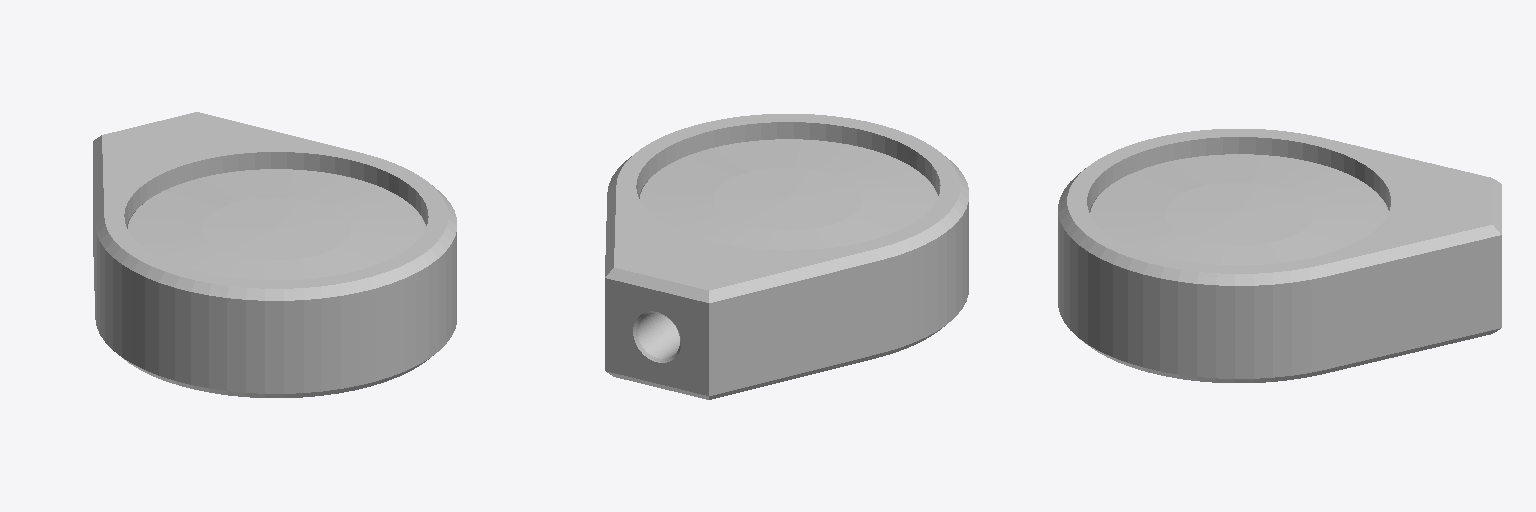
File: FieldLens.obj
3 views of the same model, side by side, from view 1: azimuth 30°, elevation 25°; view 2: azimuth 150°, elevation 25°; view 3: azimuth 270°, elevation 25° (orthographic).
Parts seen in each view (by area): view 1: mesh32, mesh20, mesh37, mesh43, mesh34, mesh39, mesh35; view 2: mesh20, mesh38, mesh37, mesh32, mesh30, mesh43, mesh35, mesh34, mesh28, mesh36, mesh33, mesh40; view 3: mesh20, mesh32, mesh31, mesh37, mesh43, mesh34, mesh33, mesh39, mesh41.
Part boxes in pixels (bbox=[...]): mesh32: bbox=[95, 227, 456, 393]; mesh20: bbox=[128, 169, 424, 280]; mesh37: bbox=[102, 112, 447, 288]; mesh43: bbox=[124, 152, 428, 226]; mesh34: bbox=[95, 185, 456, 300]; mesh39: bbox=[123, 355, 433, 397]; mesh35: bbox=[93, 135, 103, 224]; mesh20: bbox=[640, 139, 936, 250]; mesh38: bbox=[709, 260, 880, 395]; mesh37: bbox=[614, 114, 959, 290]; mesh32: bbox=[881, 202, 968, 352]; mesh30: bbox=[605, 278, 708, 395]; mesh43: bbox=[636, 122, 940, 196]; mesh35: bbox=[709, 249, 880, 302]; mesh34: bbox=[607, 156, 968, 259]; mesh28: bbox=[637, 313, 679, 358]; mesh36: bbox=[605, 268, 708, 302]; mesh33: bbox=[605, 186, 615, 276]; mesh40: bbox=[709, 353, 880, 399]; mesh20: bbox=[1090, 154, 1387, 265]; mesh32: bbox=[1058, 215, 1327, 378]; mesh31: bbox=[1328, 235, 1501, 368]; mesh37: bbox=[1067, 129, 1492, 273]; mesh43: bbox=[1087, 137, 1390, 210]; mesh34: bbox=[1058, 168, 1326, 285]; mesh33: bbox=[1324, 225, 1500, 275]; mesh39: bbox=[1080, 339, 1327, 382]; mesh41: bbox=[1324, 328, 1500, 373].
Bounding box in the file's own units: 0.0305 × 0.0102 × 0.0373.